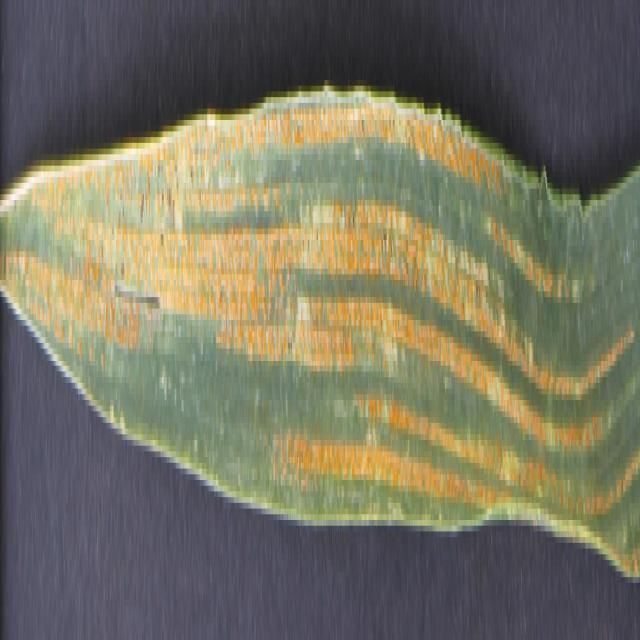leaf rust: (0, 63, 638, 577)
